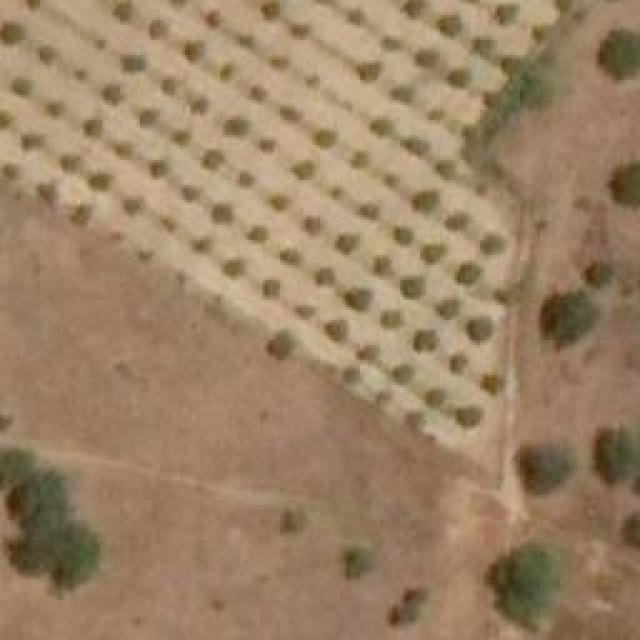Tree: (12, 473, 100, 573), (505, 550, 555, 623), (525, 445, 570, 488), (545, 295, 588, 338), (607, 429, 640, 472), (605, 30, 640, 68), (275, 505, 312, 538), (395, 588, 428, 618), (0, 452, 32, 482), (528, 67, 553, 105), (0, 20, 28, 45), (278, 103, 307, 127), (355, 195, 380, 221), (393, 225, 418, 250), (400, 137, 428, 159), (622, 168, 640, 201), (448, 65, 472, 89), (370, 255, 395, 278), (473, 33, 496, 57), (335, 233, 359, 256), (435, 158, 459, 181), (223, 115, 248, 137), (260, 275, 282, 300), (393, 82, 418, 104), (210, 203, 233, 226), (448, 353, 471, 375), (35, 183, 55, 208), (348, 550, 368, 575), (293, 158, 318, 178), (290, 17, 312, 39), (268, 190, 290, 212), (188, 95, 210, 116), (247, 82, 269, 103), (257, 135, 278, 157), (345, 5, 367, 26), (480, 87, 502, 108), (350, 150, 371, 172), (382, 168, 403, 190), (60, 153, 83, 173), (90, 173, 113, 193), (338, 365, 361, 385), (380, 34, 405, 52), (158, 212, 180, 232), (218, 60, 237, 82), (10, 77, 33, 95), (348, 290, 371, 308), (70, 203, 90, 223), (203, 150, 223, 170), (192, 236, 212, 256), (120, 55, 145, 70), (235, 170, 257, 187), (203, 10, 222, 29), (83, 120, 103, 138), (103, 85, 123, 103), (415, 192, 435, 210), (440, 15, 460, 33), (470, 320, 490, 338), (483, 235, 503, 253), (270, 335, 290, 353), (460, 407, 480, 425), (160, 75, 177, 96), (20, 133, 43, 148), (182, 42, 200, 60), (115, 0, 133, 18), (150, 20, 168, 38), (282, 247, 300, 265), (0, 108, 15, 128), (123, 198, 138, 218), (315, 130, 335, 145), (438, 300, 458, 315), (458, 265, 478, 280), (40, 45, 55, 63), (47, 103, 65, 118), (115, 140, 130, 158), (150, 160, 165, 178), (180, 185, 198, 200), (405, 0, 423, 15), (360, 65, 378, 80), (417, 50, 435, 65), (372, 120, 390, 135), (417, 333, 435, 348), (402, 280, 420, 295), (422, 248, 440, 263), (447, 215, 465, 230), (250, 225, 268, 240), (225, 260, 243, 275), (485, 372, 500, 390), (427, 390, 445, 405), (140, 110, 155, 125), (263, 3, 278, 18), (505, 58, 520, 73), (500, 5, 515, 20), (328, 323, 343, 338), (318, 268, 333, 283), (305, 218, 320, 233), (395, 365, 410, 380), (385, 310, 400, 325), (593, 265, 608, 280), (533, 25, 548, 40)
